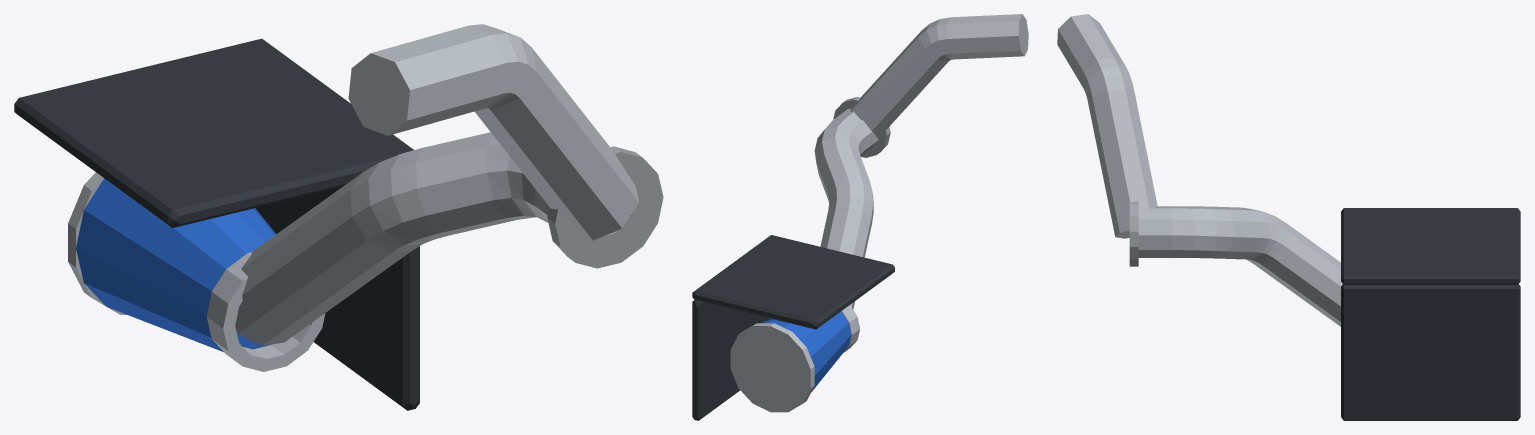
The model's file is ridgeback_4x4.glb.
3 renders of one model, left to right at view 1: azimuth 30°, elevation 25°; view 2: azimuth 150°, elevation 25°; view 3: azimuth 270°, elevation 25°, orthographic. The views are drawn at different scales.
Visible parts, largest first — view 1: model; view 2: model; view 3: model.
Part boxes in pixels (x1=…): model: x1=14, y1=24, x2=663, y2=410; model: x1=692, y1=14, x2=1028, y2=420; model: x1=1057, y1=14, x2=1520, y2=420.
Bounding box in the file's own units: 0.2982 × 0.4893 × 0.6186.
2 materials, 1 textured.
